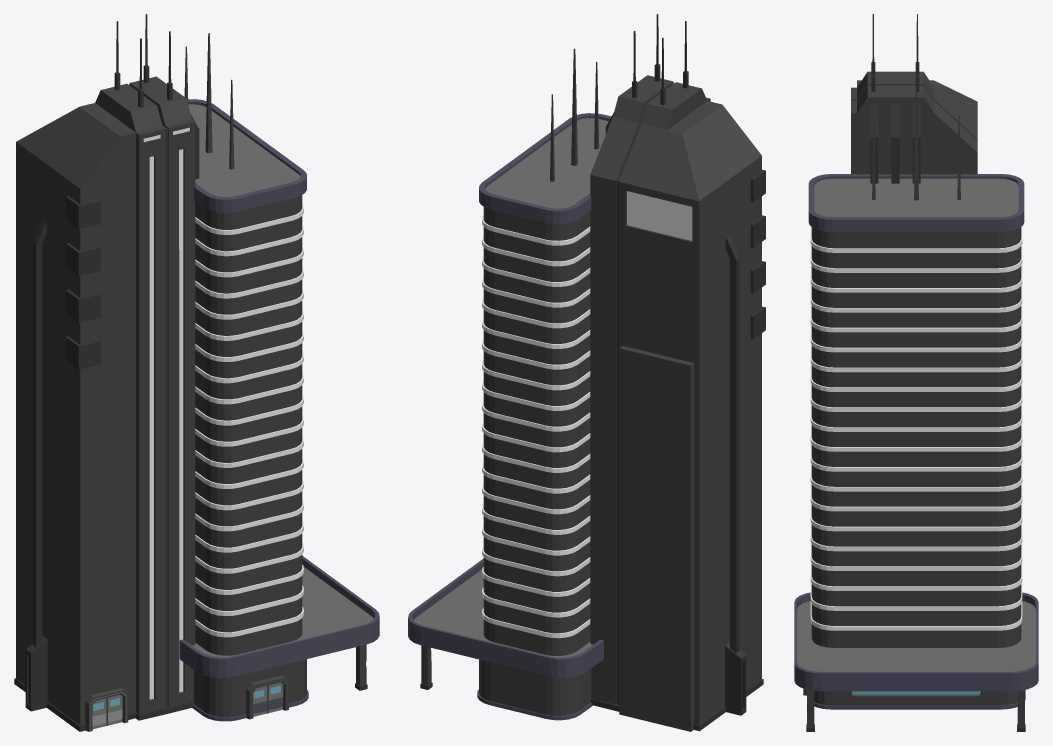
The model's file is hotel_humboldt_model.glb.
3 views of the same model, side by side, from view 1: azimuth 30°, elevation 25°; view 2: azimuth 150°, elevation 25°; view 3: azimuth 270°, elevation 25° (orthographic). The views are drawn at different scales.
Parts seen in each view (by area): view 1: SM_BigBuilding_07, SM_BigBuilding_06; view 2: SM_BigBuilding_07, SM_BigBuilding_06; view 3: SM_BigBuilding_06, SM_BigBuilding_07.
Part boxes in pixels (x1,y1,x2,y2): SM_BigBuilding_07: (14, 14, 199, 731); SM_BigBuilding_06: (179, 33, 379, 721); SM_BigBuilding_07: (590, 14, 765, 731); SM_BigBuilding_06: (408, 48, 611, 720); SM_BigBuilding_06: (794, 87, 1038, 731); SM_BigBuilding_07: (851, 14, 977, 183).
Bounding box in the file's own units: 23.53 × 51.5 × 18.09.
4 materials, 2 textured.
